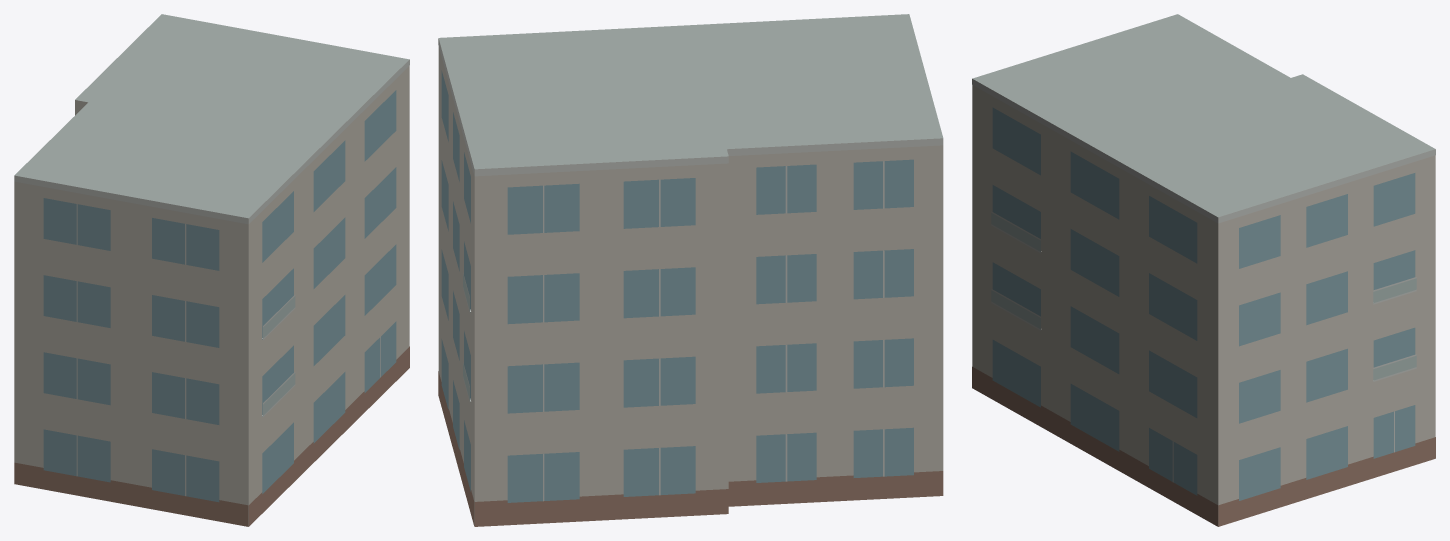
File: survey-upis-32816431.glb
The picture shows the model from 3 angles, left to right: view 1: azimuth 30°, elevation 25°; view 2: azimuth 150°, elevation 25°; view 3: azimuth 270°, elevation 25°; orthographic projection. The views are drawn at different scales.
Visible parts, largest first — view 1: survey-upis-32816431.tmp; view 2: survey-upis-32816431.tmp; view 3: survey-upis-32816431.tmp.
Part boxes in pixels (x1=…): survey-upis-32816431.tmp: x1=14, y1=14, x2=409, y2=526; survey-upis-32816431.tmp: x1=438, y1=14, x2=943, y2=526; survey-upis-32816431.tmp: x1=972, y1=14, x2=1435, y2=526.
Size of the model in its own units: 17.49 by 12.4 by 16.84.
